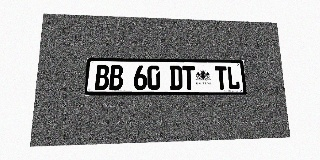0: (147, 65, 160, 90)
6: (134, 65, 147, 90)
B: (95, 65, 109, 90), (109, 65, 123, 90)
D: (169, 66, 183, 90)
L: (227, 66, 240, 90)
T: (182, 66, 196, 90), (214, 66, 228, 90)
